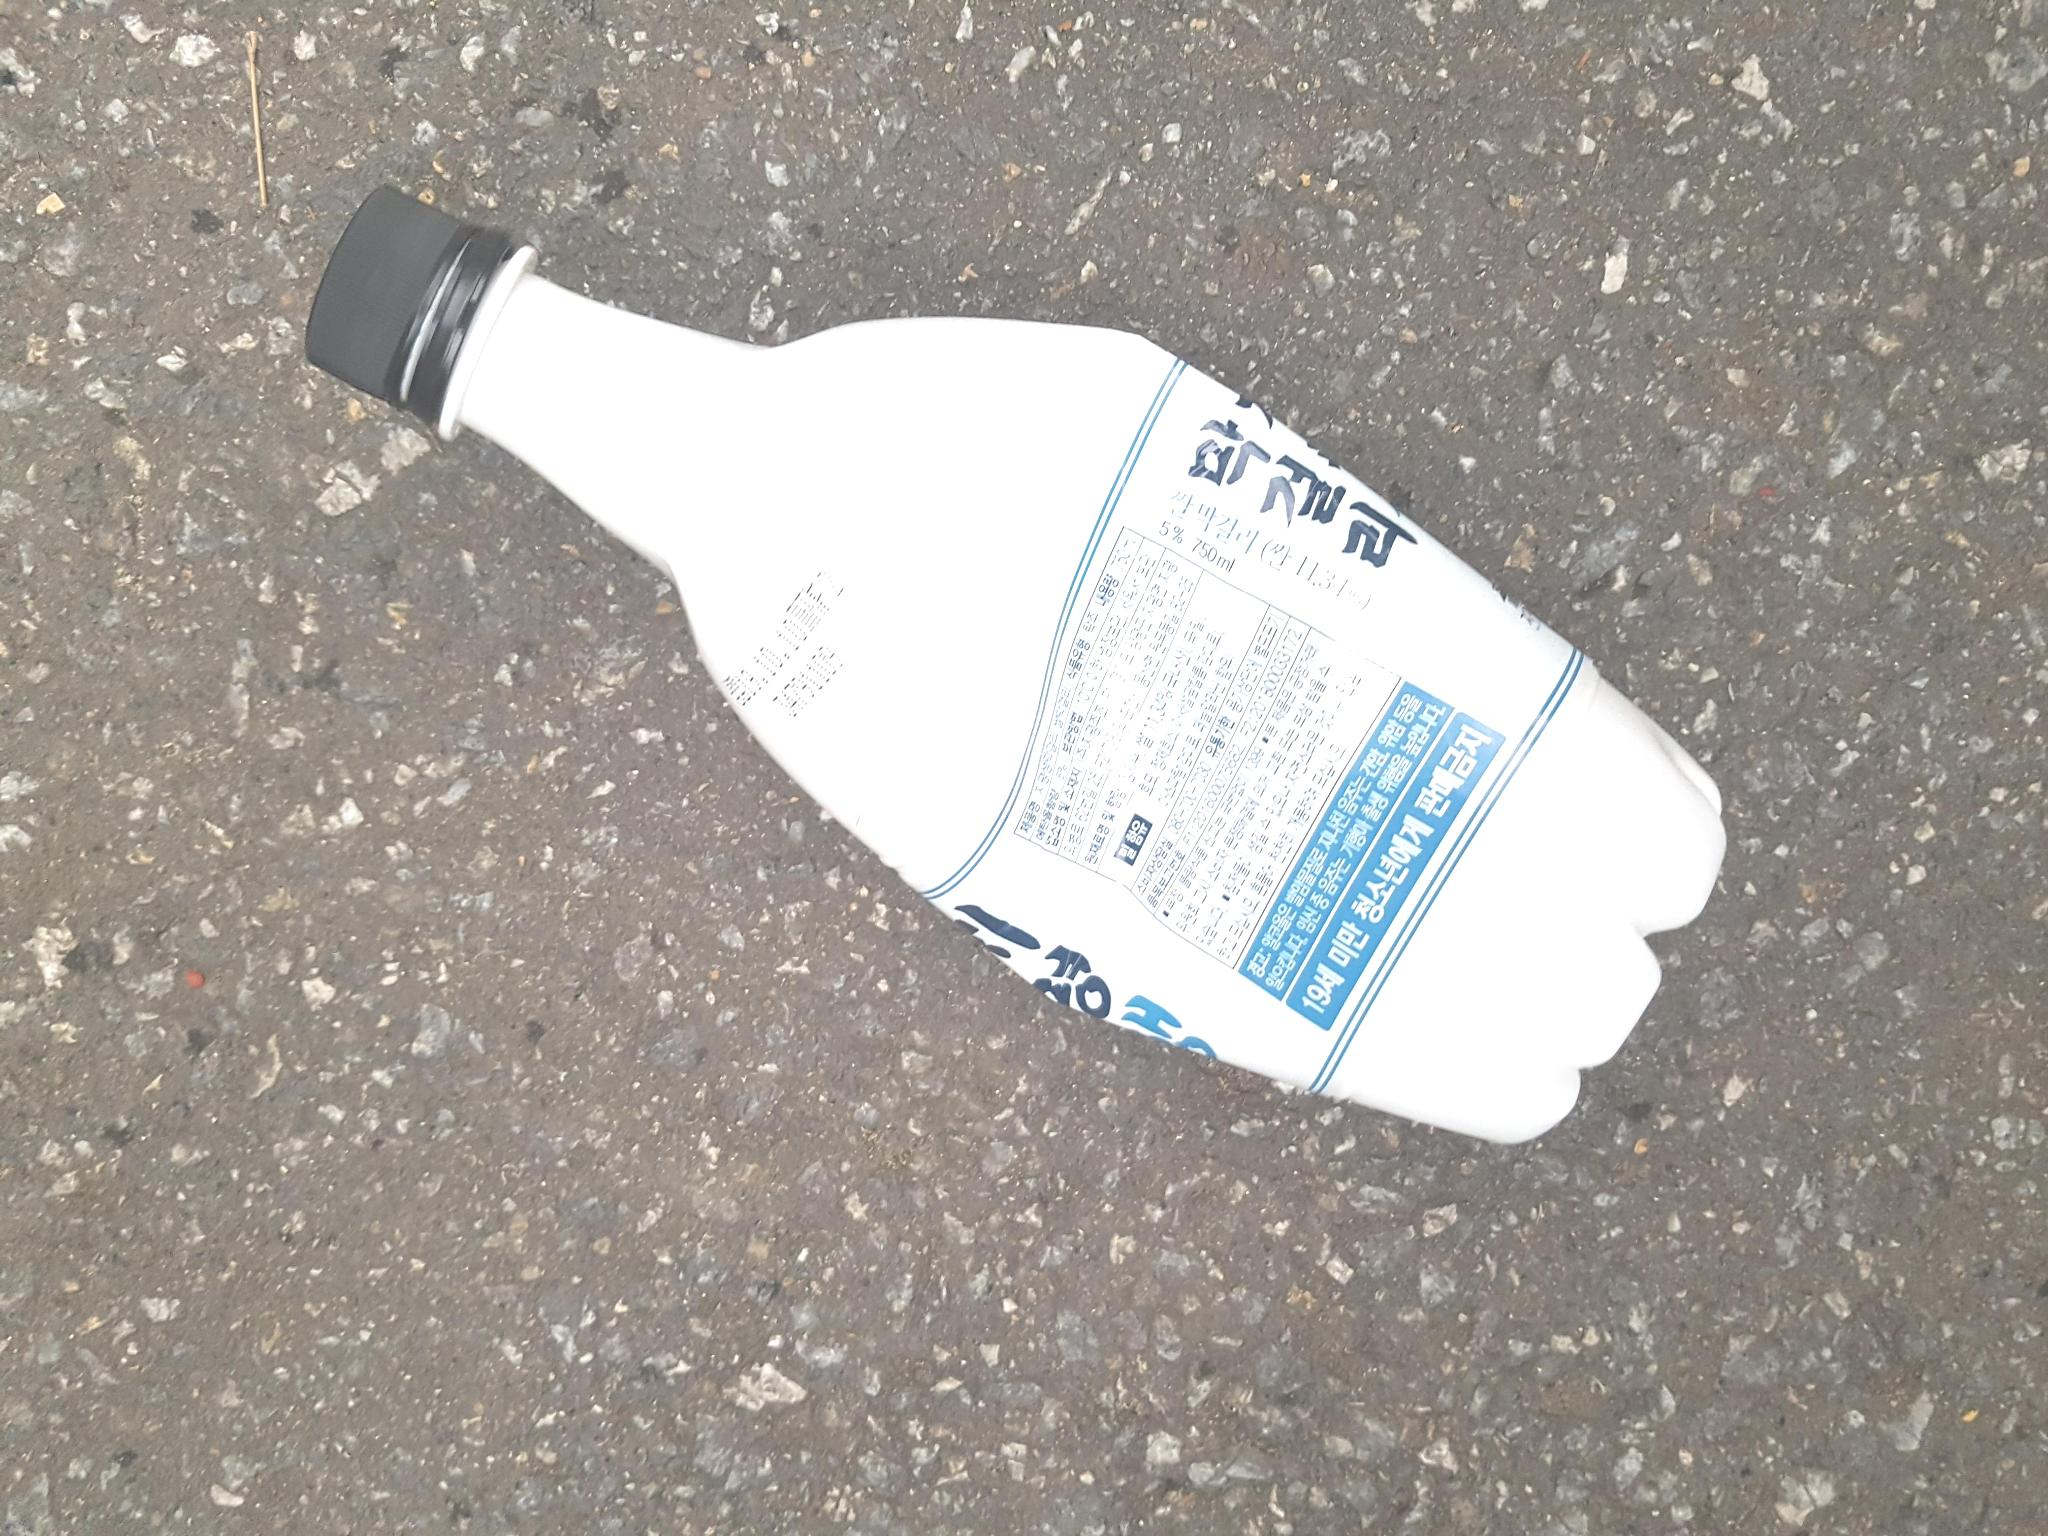bottle: (289, 154, 1747, 1148)
